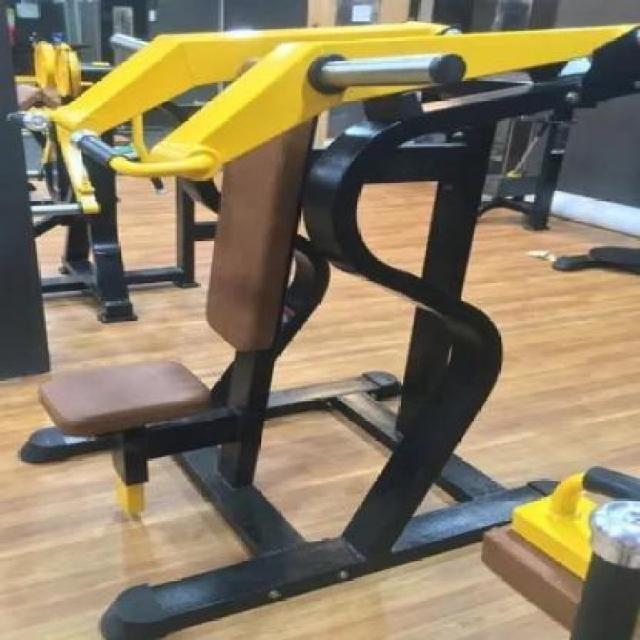shoulder press machine: (18, 17, 640, 474)
